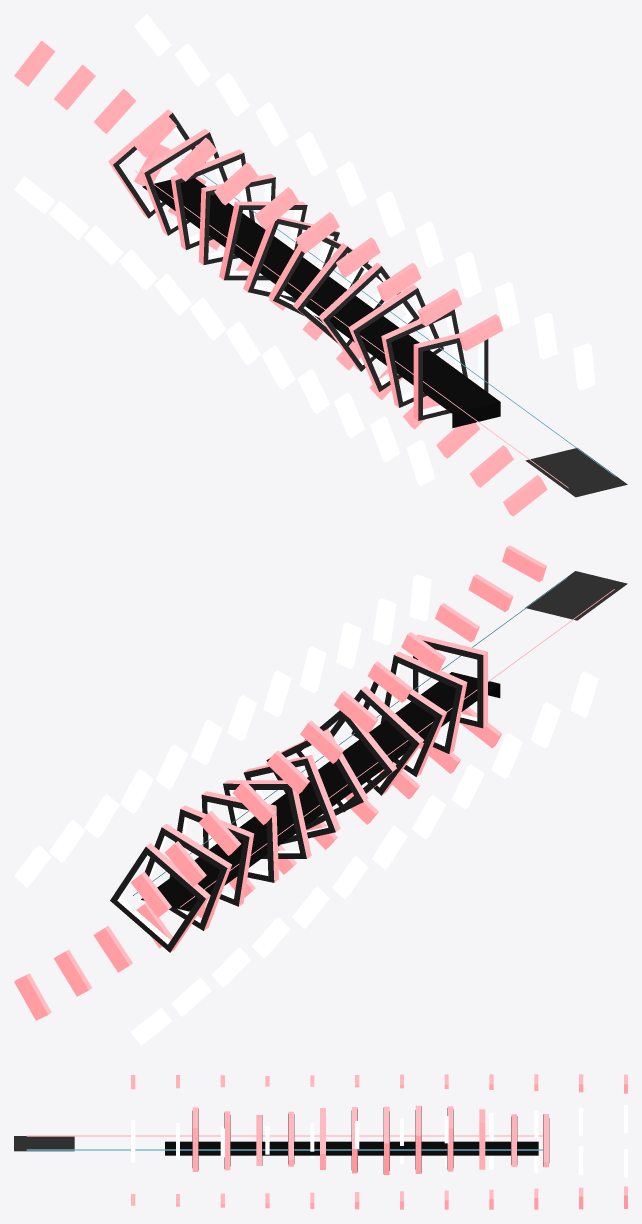
The model's file is Beat Saber Main menu.fbx.
3 renders of one model, top to bottom at view 1: azimuth 30°, elevation 25°; view 2: azimuth 150°, elevation 25°; view 3: azimuth 270°, elevation 25°, orthographic. The views are drawn at different scales.
Visible parts, largest first — view 1: Cube.003, Cube, Plane.002, Plane, Plane.001; view 2: Cube.003, Cube, Plane.002, Plane, Plane.001; view 3: Cube, Plane.002, Cube.003, Plane.001, Plane.
Boxes of the visible parts, bbox=[...] form: Cube.003: bbox=[14, 14, 595, 516]; Cube: bbox=[108, 109, 488, 420]; Plane.002: bbox=[142, 178, 500, 428]; Plane: bbox=[525, 448, 627, 497]; Plane.001: bbox=[135, 159, 615, 488]; Cube.003: bbox=[14, 545, 598, 1045]; Cube: bbox=[110, 634, 487, 952]; Plane.002: bbox=[141, 672, 500, 911]; Plane: bbox=[525, 571, 627, 620]; Plane.001: bbox=[133, 577, 614, 907]; Cube: bbox=[192, 1105, 549, 1174]; Plane.002: bbox=[165, 1141, 538, 1155]; Cube.003: bbox=[131, 1074, 627, 1209]; Plane.001: bbox=[26, 1135, 542, 1150]; Plane: bbox=[14, 1136, 74, 1151].
Bounding box in the file's own units: 1063 × 1114 × 5057.
